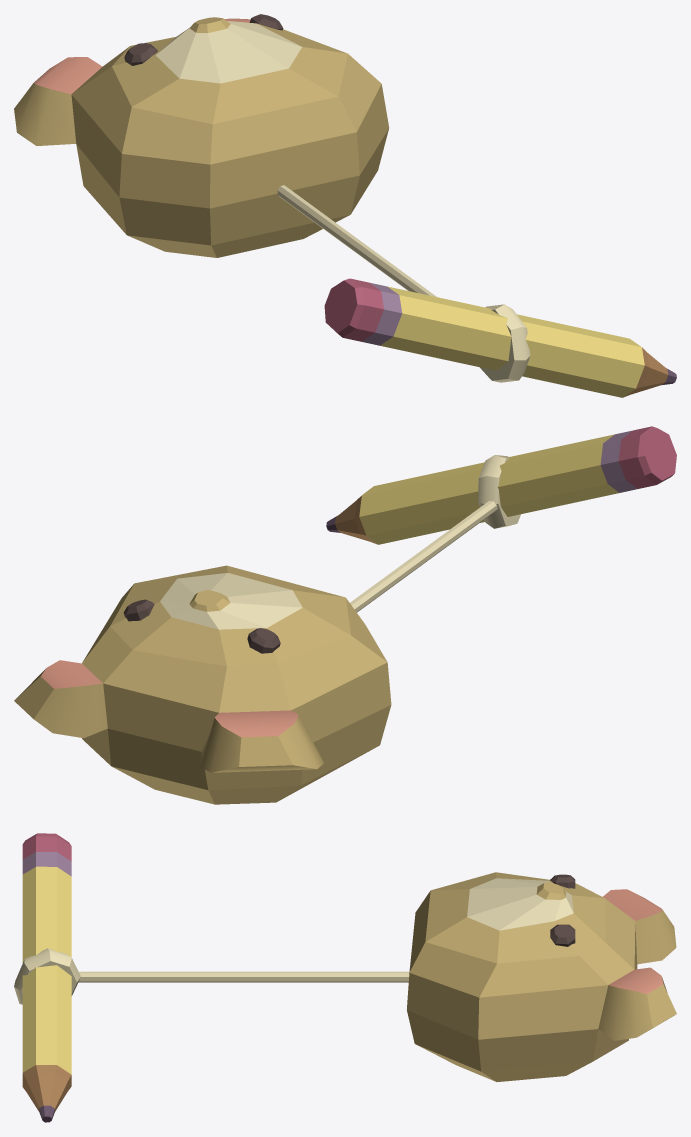
File: bear_balloon.fbx
3 renders of one model, top to bottom at view 1: azimuth 30°, elevation 25°; view 2: azimuth 150°, elevation 25°; view 3: azimuth 270°, elevation 25°, orthographic. The views are drawn at different scales.
Parts seen in each view (by area): view 1: pPlane8; view 2: pPlane8; view 3: pPlane8.
Part boxes in pixels (left/top/right/bottom): pPlane8: left=14, top=14, right=676, bottom=397; pPlane8: left=14, top=426, right=676, bottom=804; pPlane8: left=14, top=833, right=676, bottom=1122.
Size of the model in its own units: 9.09 by 4.84 by 17.61.
